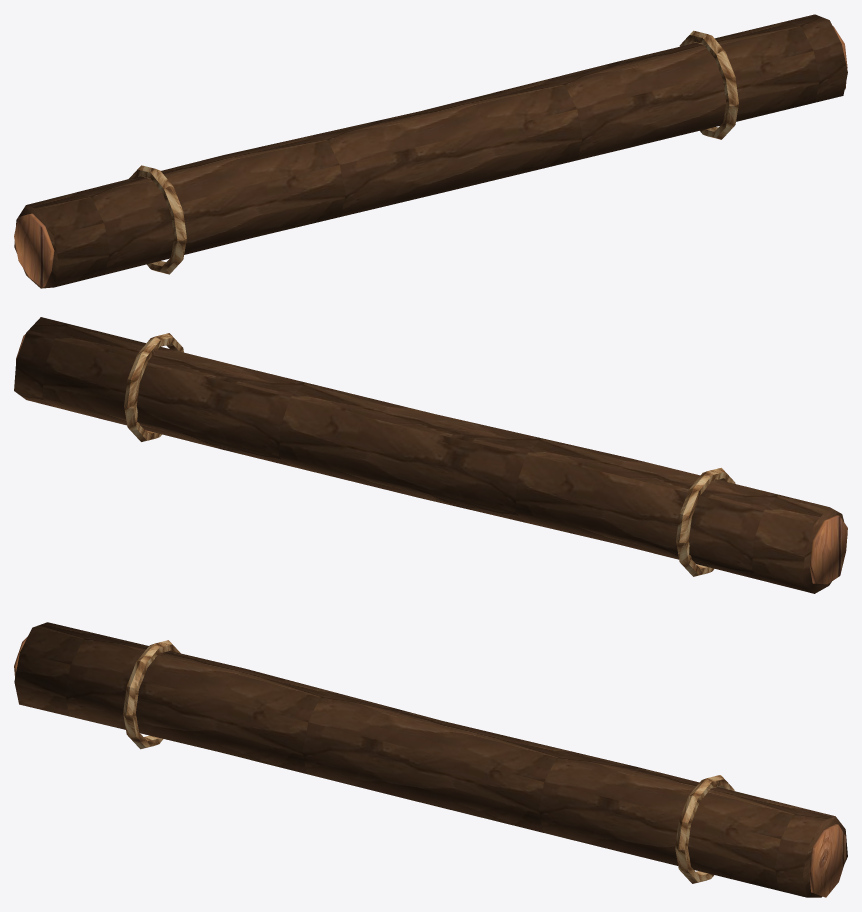
The model's file is beam_2m.glb.
The picture shows the model from 3 angles, top to bottom: view 1: azimuth 30°, elevation 25°; view 2: azimuth 150°, elevation 25°; view 3: azimuth 330°, elevation 25°; orthographic projection.
Parts seen in each view (by area): view 1: model; view 2: model; view 3: model.
Boxes of the visible parts, x1,y1,x2,y2 form: model: [14, 14, 847, 288]; model: [14, 317, 847, 593]; model: [14, 622, 847, 897].
Size of the model in its own units: 2.02 by 0.248 by 0.248.
Materials: 3 (3 with a texture image).
